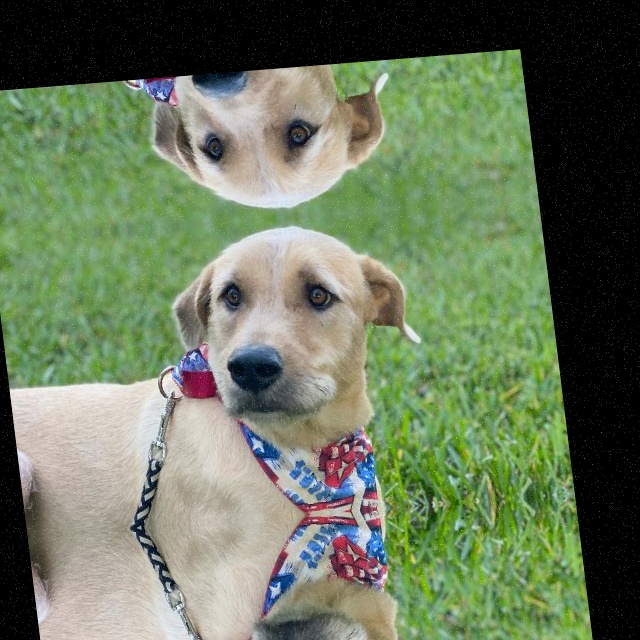dog: (149, 213, 431, 439), (130, 60, 404, 223), (195, 589, 460, 640)
